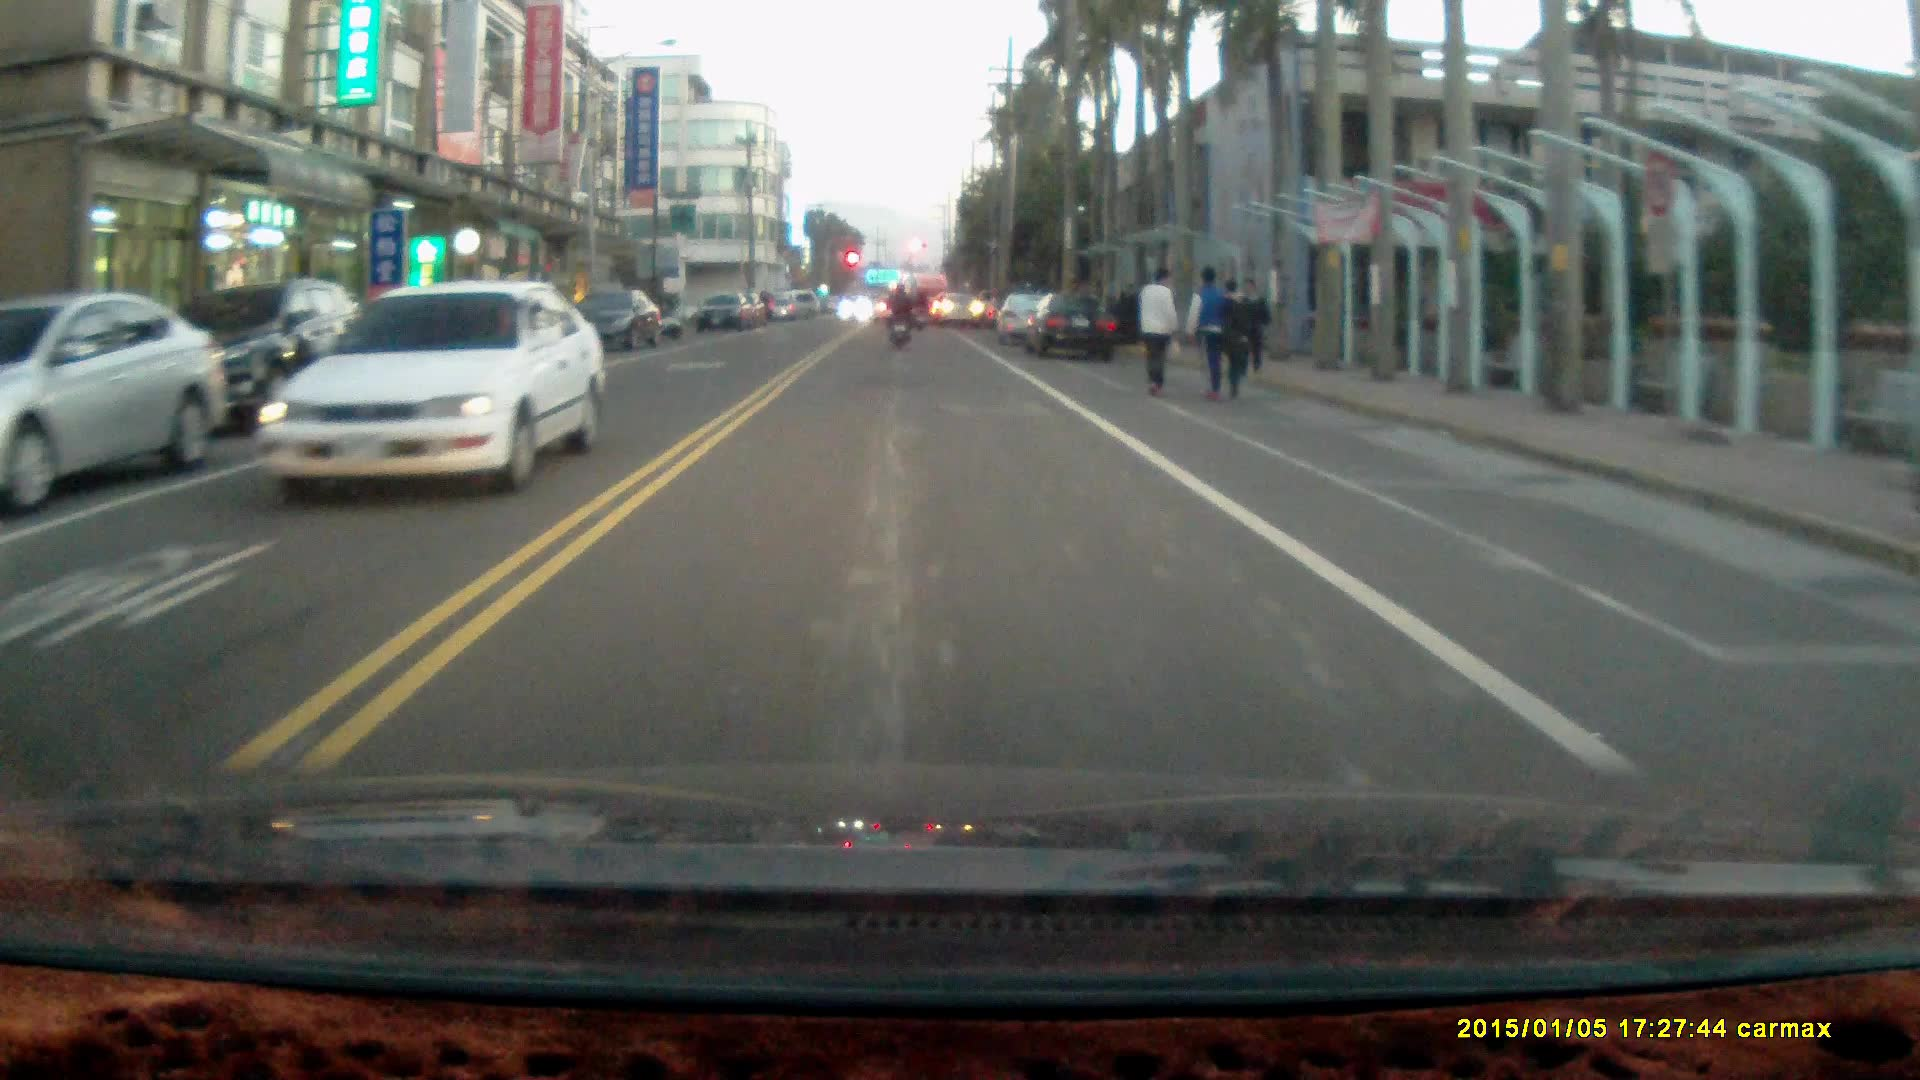pedestrian: (1184, 264, 1230, 401), (1135, 261, 1180, 399), (1213, 279, 1253, 405)
rider: (883, 279, 914, 351)
vehicle: (254, 283, 607, 492), (7, 291, 219, 504), (118, 278, 359, 427), (563, 287, 660, 354), (1030, 294, 1120, 363), (696, 294, 759, 337)
